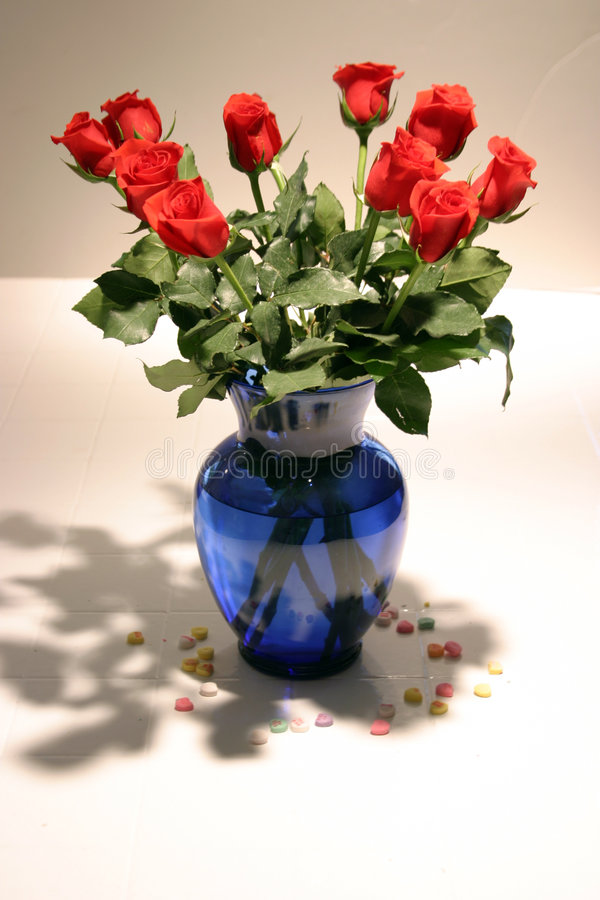RedRose: (144, 178, 240, 263), (367, 116, 440, 216), (104, 126, 182, 218), (323, 38, 395, 133), (401, 176, 473, 270), (468, 126, 535, 223), (408, 75, 475, 158), (222, 88, 285, 175), (47, 101, 110, 183), (102, 77, 169, 150)
